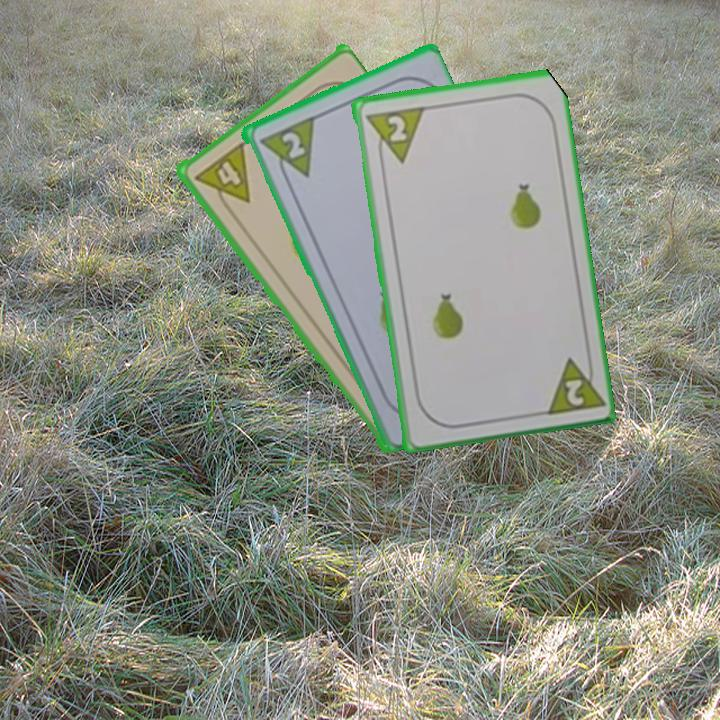2p: (539, 350, 604, 418), (361, 102, 426, 168), (277, 127, 308, 162)
4p: (190, 139, 253, 216)
